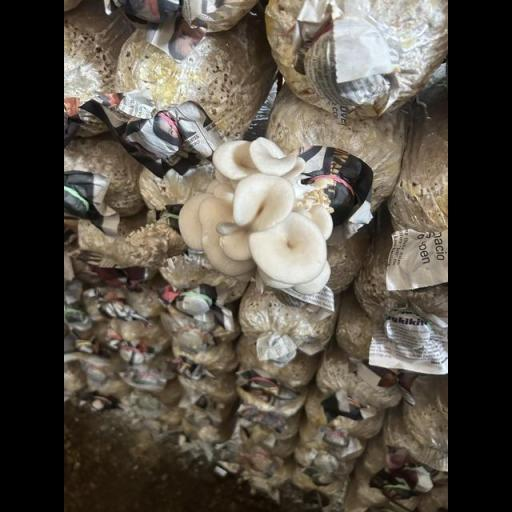White Oyster Mushroom: (178, 136, 339, 293)
